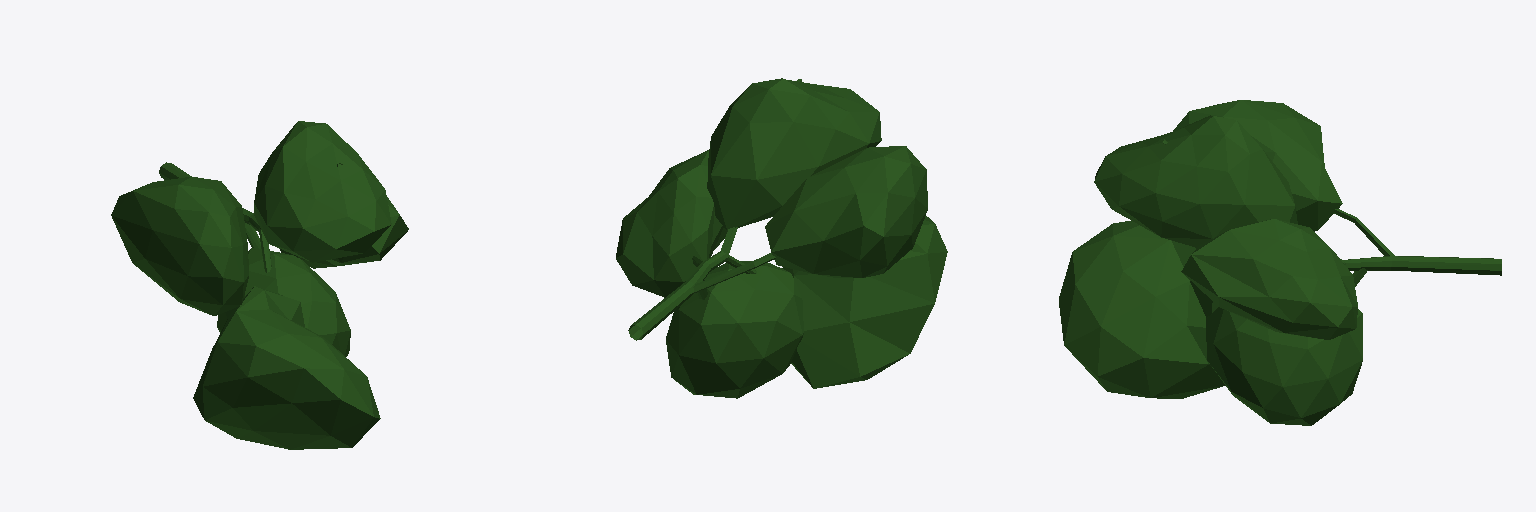
The model's file is birch5.obj.
3 renders of one model, left to right at view 1: azimuth 30°, elevation 25°; view 2: azimuth 150°, elevation 25°; view 3: azimuth 270°, elevation 25°, orthographic.
Parts seen in each view (by area): view 1: Birch4; view 2: Birch4; view 3: Birch4.
Boxes of the visible parts, box(x1,y1,x2,y2) form: Birch4: box(111, 121, 408, 449); Birch4: box(616, 78, 947, 398); Birch4: box(1059, 100, 1501, 425).
Size of the model in its own units: 4.4 by 4.81 by 6.49.